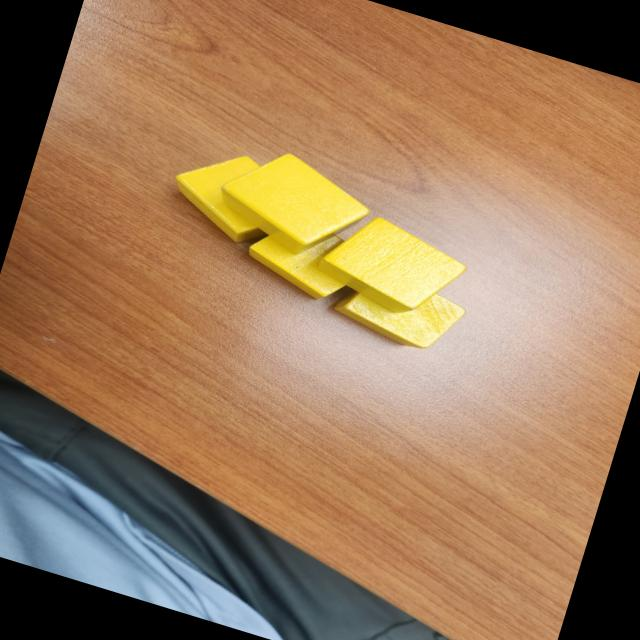yellow: (214, 138, 380, 272), (312, 203, 476, 329), (326, 258, 471, 361), (160, 137, 288, 250), (239, 205, 366, 308)
